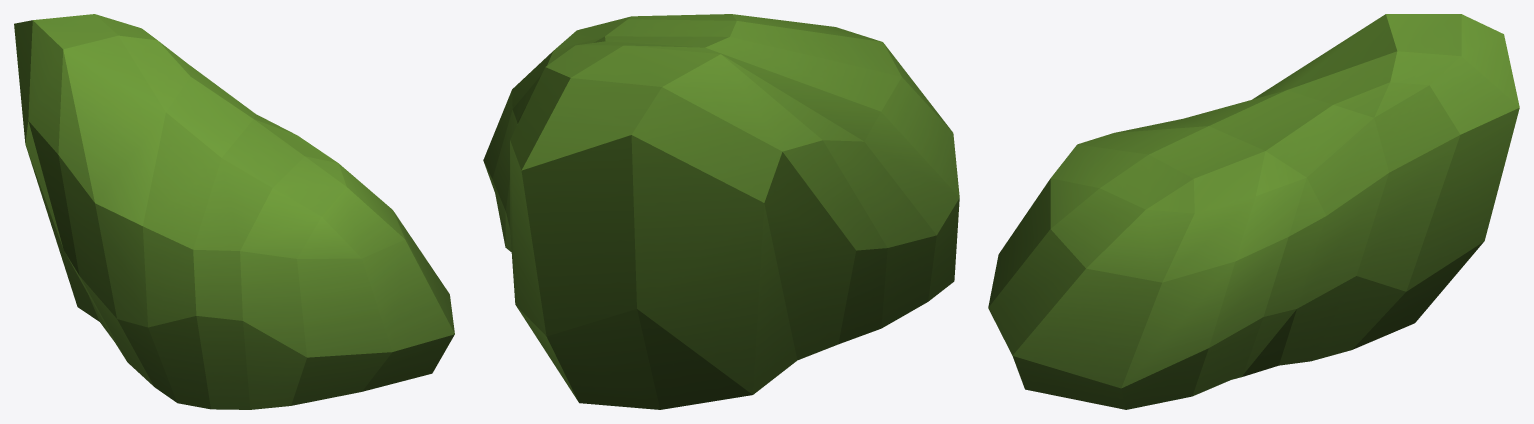
File: Cavern_Bush-03.fbx
The picture shows the model from 3 angles, left to right: view 1: azimuth 30°, elevation 25°; view 2: azimuth 150°, elevation 25°; view 3: azimuth 270°, elevation 25°; orthographic projection. The views are drawn at different scales.
Visible parts, largest first — view 1: Cavern_Bush-03; view 2: Cavern_Bush-03; view 3: Cavern_Bush-03.
Part boxes in pixels (left/top/right/bottom): Cavern_Bush-03: left=14, top=14, right=454, bottom=409; Cavern_Bush-03: left=483, top=14, right=959, bottom=409; Cavern_Bush-03: left=988, top=14, right=1519, bottom=409.
Bounding box in the file's own units: 234 × 181 × 321.
1 material, 1 textured.
